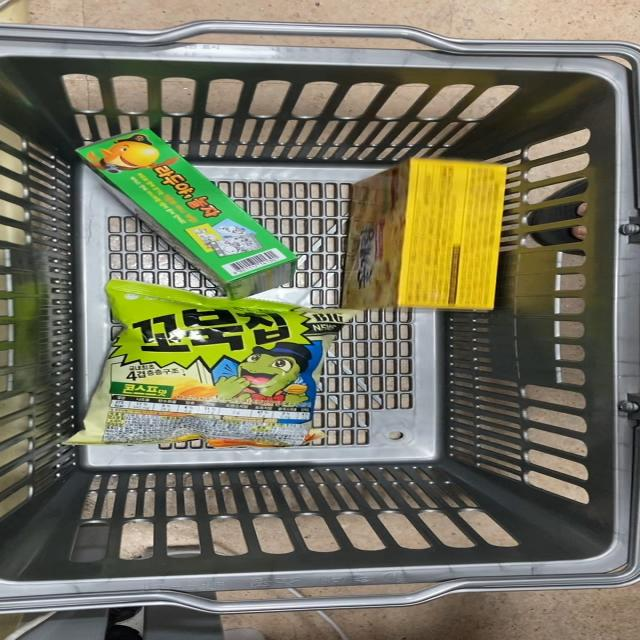ggobukchip: (87, 276, 350, 459)
goraebob: (69, 116, 307, 294)
minicrab: (339, 147, 534, 326)
